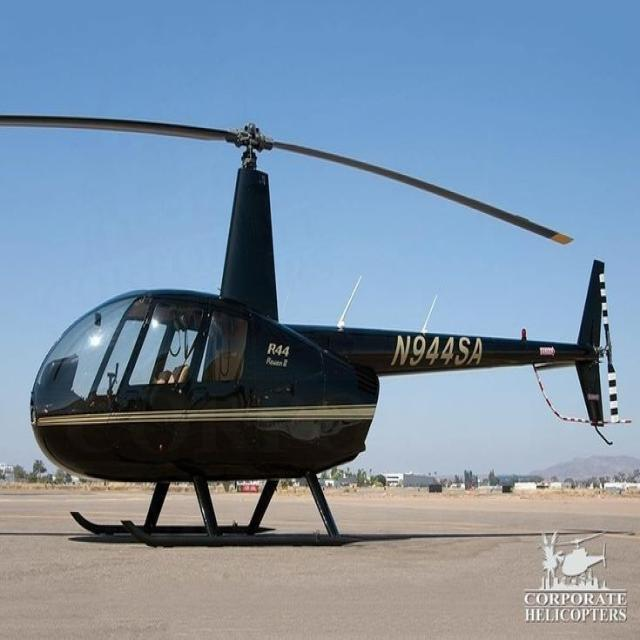CIV_HELO: (29, 119, 614, 556)
